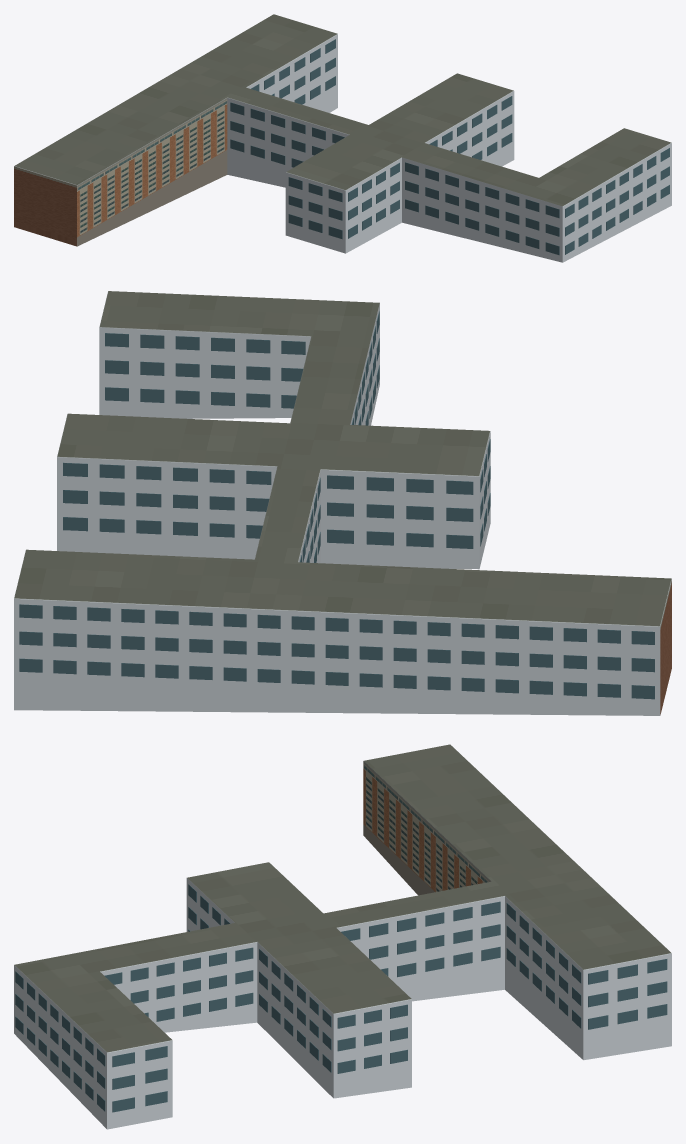
File: fragments.glb
The picture shows the model from 3 angles, top to bottom: view 1: azimuth 30°, elevation 25°; view 2: azimuth 150°, elevation 25°; view 3: azimuth 270°, elevation 25°; orthographic projection. The views are drawn at different scales.
Visible parts, largest first — view 1: SM_cheom_Fragment_006, SM_cheom_Fragment_054, SM_cheom_Fragment_017, SM_cheom_Fragment_031, SM_cheom_Fragment_019, SM_cheom_Fragment_036, SM_cheom_Fragment_020, SM_cheom_Fragment_050, SM_cheom_Fragment_016, SM_cheom_Fragment_039, SM_cheom_Fragment_046, SM_cheom_Fragment_062 (+37 smaller); view 2: SM_cheom_Fragment_005, SM_cheom_Fragment_041, SM_cheom_Fragment_016, SM_cheom_Fragment_032, SM_cheom_Fragment_012, SM_cheom_Fragment_035, SM_cheom_Fragment_040, SM_cheom_Fragment_001, SM_cheom_Fragment_029, SM_cheom_Fragment_027, SM_cheom_Fragment_038, SM_cheom_Fragment_030 (+34 smaller); view 3: SM_cheom_Fragment_017, SM_cheom_Fragment_019, SM_cheom_Fragment_006, SM_cheom_Fragment_063, SM_cheom_Fragment_046, SM_cheom_Fragment_002, SM_cheom_Fragment_024, SM_cheom_Fragment_031, SM_cheom_Fragment_009, SM_cheom_Fragment_035, SM_cheom_Fragment_048, SM_cheom_Fragment_020 (+34 smaller).
Part boxes in pixels (x1=…): SM_cheom_Fragment_006: x1=400, y1=146, x2=468, y2=236; SM_cheom_Fragment_054: x1=494, y1=175, x2=582, y2=236; SM_cheom_Fragment_017: x1=456, y1=156, x2=530, y2=242; SM_cheom_Fragment_031: x1=551, y1=159, x2=632, y2=228; SM_cheom_Fragment_019: x1=263, y1=22, x2=337, y2=99; SM_cheom_Fragment_036: x1=31, y1=154, x2=100, y2=215; SM_cheom_Fragment_020: x1=128, y1=105, x2=205, y2=169; SM_cheom_Fragment_050: x1=308, y1=166, x2=374, y2=223; SM_cheom_Fragment_016: x1=285, y1=144, x2=341, y2=238; SM_cheom_Fragment_039: x1=210, y1=89, x2=295, y2=142; SM_cheom_Fragment_046: x1=618, y1=131, x2=671, y2=207; SM_cheom_Fragment_062: x1=82, y1=161, x2=128, y2=241; SM_cheom_Fragment_005: x1=288, y1=580, x2=416, y2=712; SM_cheom_Fragment_041: x1=414, y1=593, x2=543, y2=714; SM_cheom_Fragment_016: x1=357, y1=450, x2=486, y2=569; SM_cheom_Fragment_032: x1=99, y1=306, x2=224, y2=418; SM_cheom_Fragment_012: x1=79, y1=579, x2=195, y2=678; SM_cheom_Fragment_035: x1=14, y1=579, x2=110, y2=693; SM_cheom_Fragment_040: x1=157, y1=432, x2=271, y2=530; SM_cheom_Fragment_001: x1=195, y1=327, x2=285, y2=418; SM_cheom_Fragment_029: x1=321, y1=465, x2=436, y2=568; SM_cheom_Fragment_027: x1=563, y1=610, x2=664, y2=694; SM_cheom_Fragment_038: x1=526, y1=651, x2=660, y2=715; SM_cheom_Fragment_030: x1=189, y1=584, x2=299, y2=663; SM_cheom_Fragment_017: x1=107, y1=937, x2=200, y2=1032; SM_cheom_Fragment_019: x1=551, y1=929, x2=637, y2=1028; SM_cheom_Fragment_006: x1=161, y1=925, x2=255, y2=1029; SM_cheom_Fragment_063: x1=425, y1=924, x2=511, y2=996; SM_cheom_Fragment_046: x1=73, y1=1017, x2=157, y2=1111; SM_cheom_Fragment_002: x1=555, y1=1008, x2=671, y2=1060; SM_cheom_Fragment_024: x1=307, y1=895, x2=444, y2=950; SM_cheom_Fragment_031: x1=27, y1=978, x2=120, y2=1045; SM_cheom_Fragment_009: x1=95, y1=1040, x2=172, y2=1129; SM_cheom_Fragment_035: x1=616, y1=932, x2=671, y2=1032; SM_cheom_Fragment_048: x1=242, y1=905, x2=341, y2=970; SM_cheom_Fragment_020: x1=436, y1=818, x2=516, y2=888.
Bounding box in the file's own units: 2.2 × 0.3141 × 1.98.
Materials: 7 (3 with a texture image).
